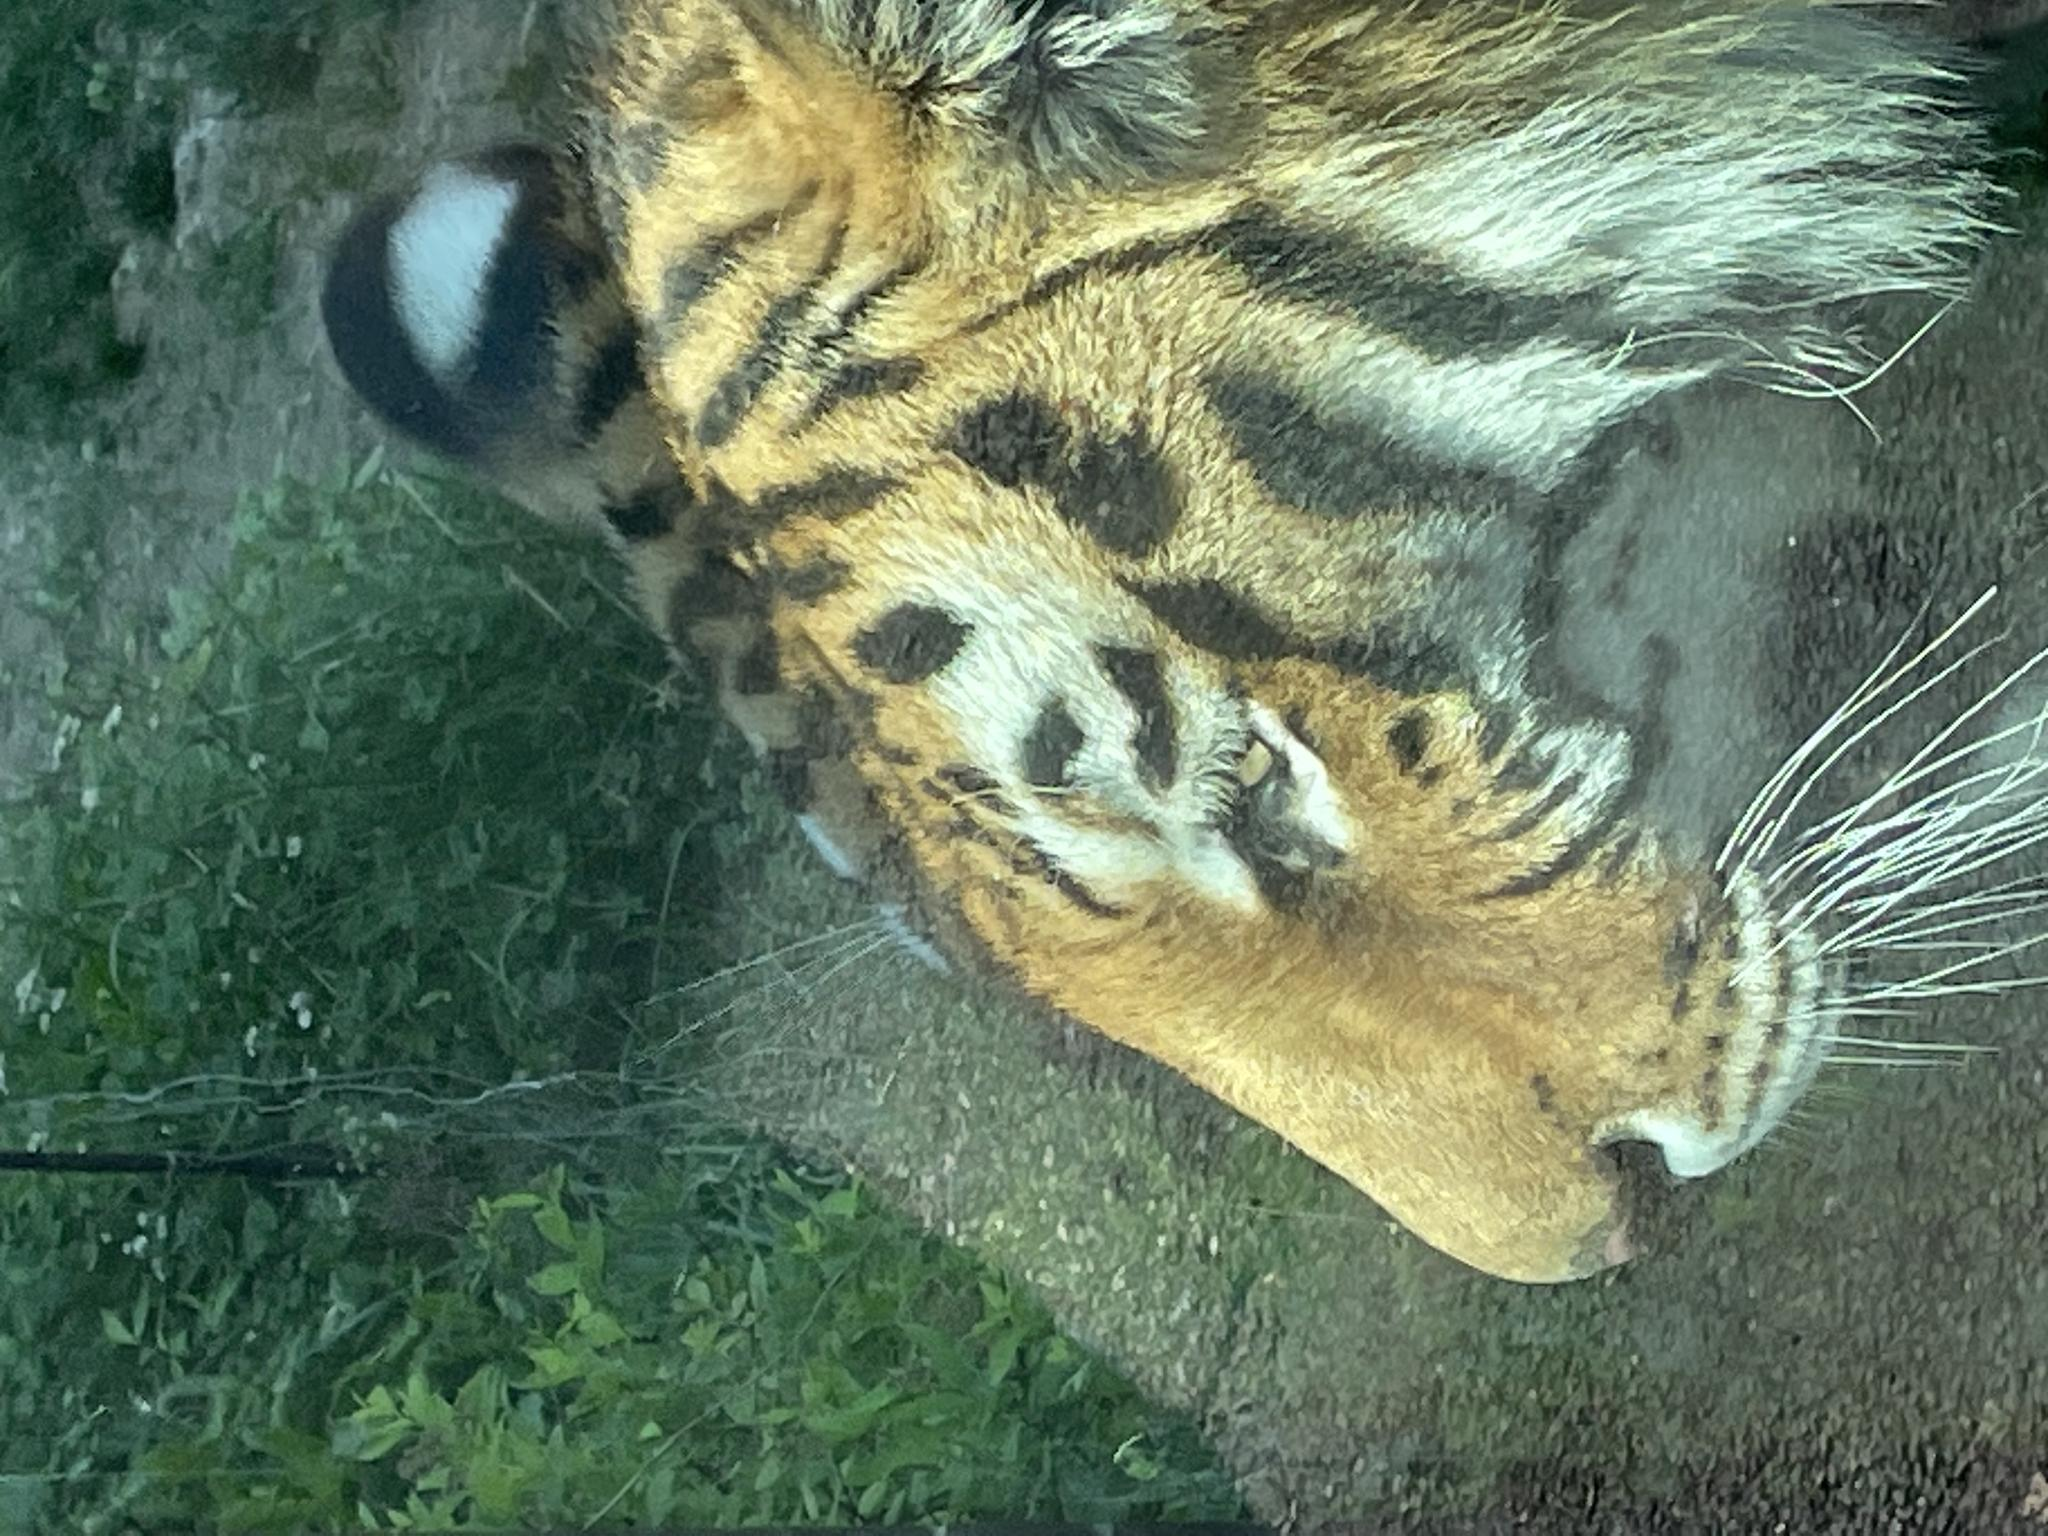tiger: (250, 316, 1535, 1536)
